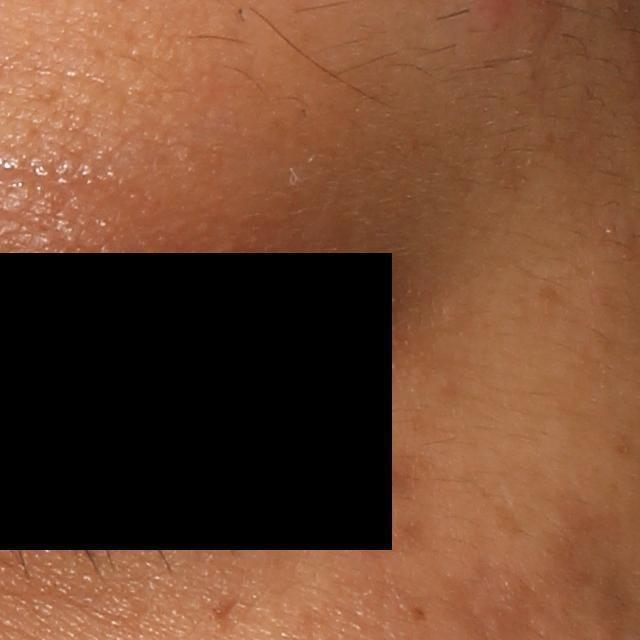melasma: (336, 447, 436, 571), (203, 582, 246, 628), (490, 497, 526, 541)
